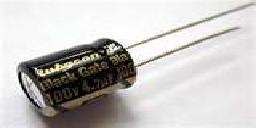Electrolytic-Capacitor: (16, 2, 256, 119)
